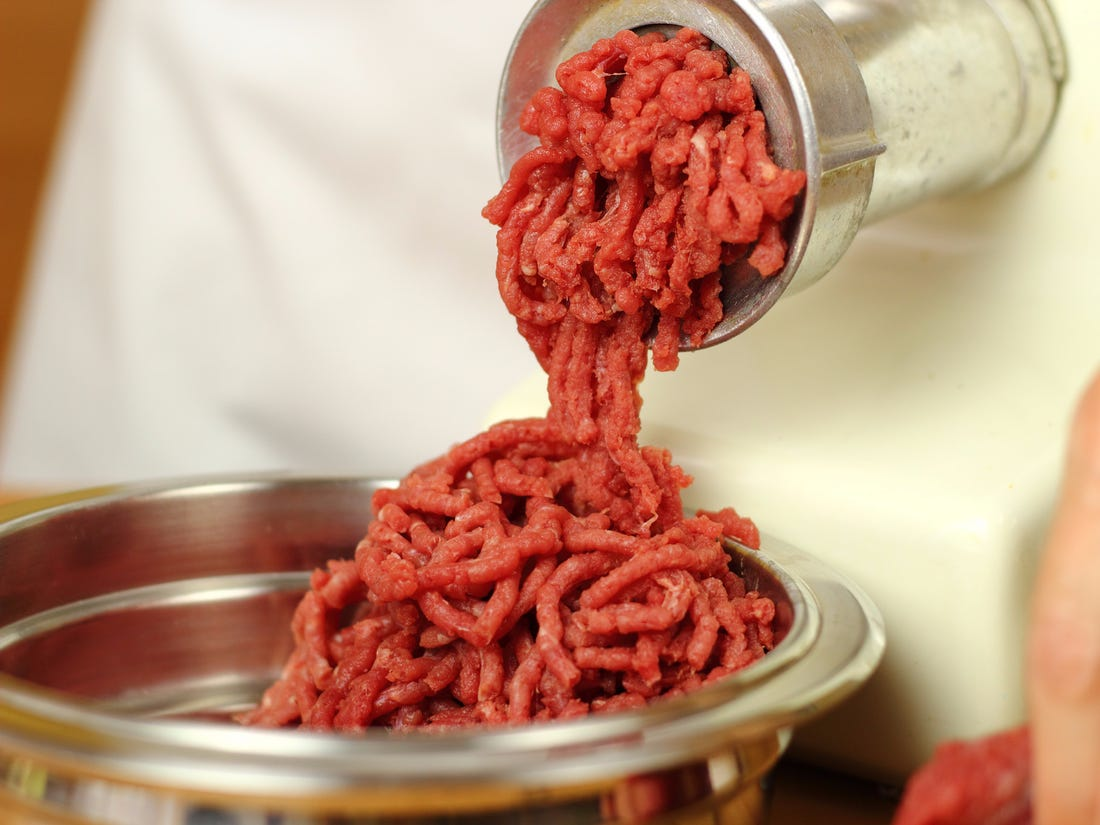ground_beef: (319, 389, 771, 712), (478, 36, 809, 346)
